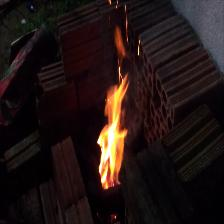fire: (99, 69, 128, 189)
